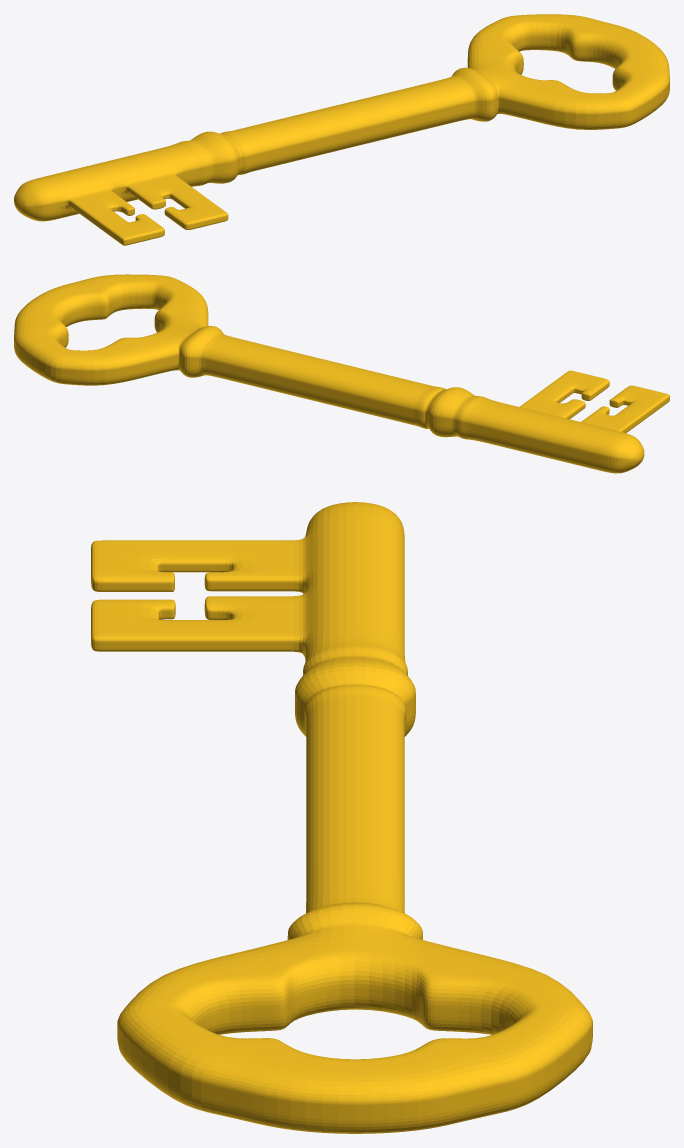
The model's file is key.glb.
The picture shows the model from 3 angles, top to bottom: view 1: azimuth 30°, elevation 25°; view 2: azimuth 150°, elevation 25°; view 3: azimuth 270°, elevation 25°; orthographic projection. The views are drawn at different scales.
Parts seen in each view (by area): view 1: Plane; view 2: Plane; view 3: Plane.
Part boxes in pixels (left/top/right/bottom): Plane: left=14, top=14, right=669, bottom=245; Plane: left=14, top=274, right=669, bottom=473; Plane: left=91, top=502, right=592, bottom=1133.
Bounding box in the file's own units: 9.66 × 0.6242 × 3.43.
